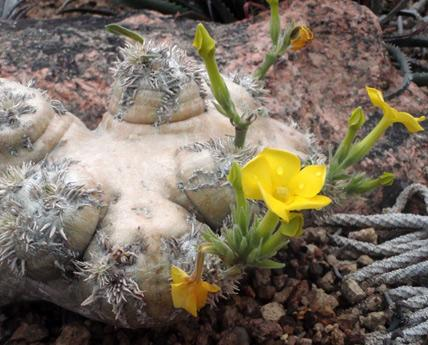Pachypodium brevicaule: (18, 42, 330, 320)
